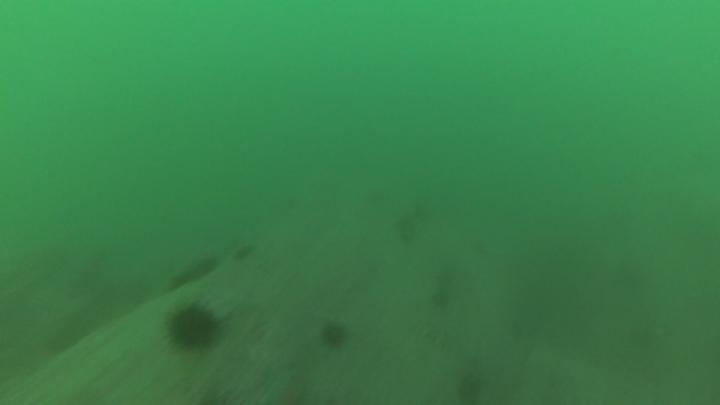echinus: (164, 302, 224, 356), (166, 253, 219, 292), (317, 320, 351, 354), (456, 378, 487, 405), (395, 216, 418, 247), (429, 288, 455, 311), (233, 239, 257, 263)
